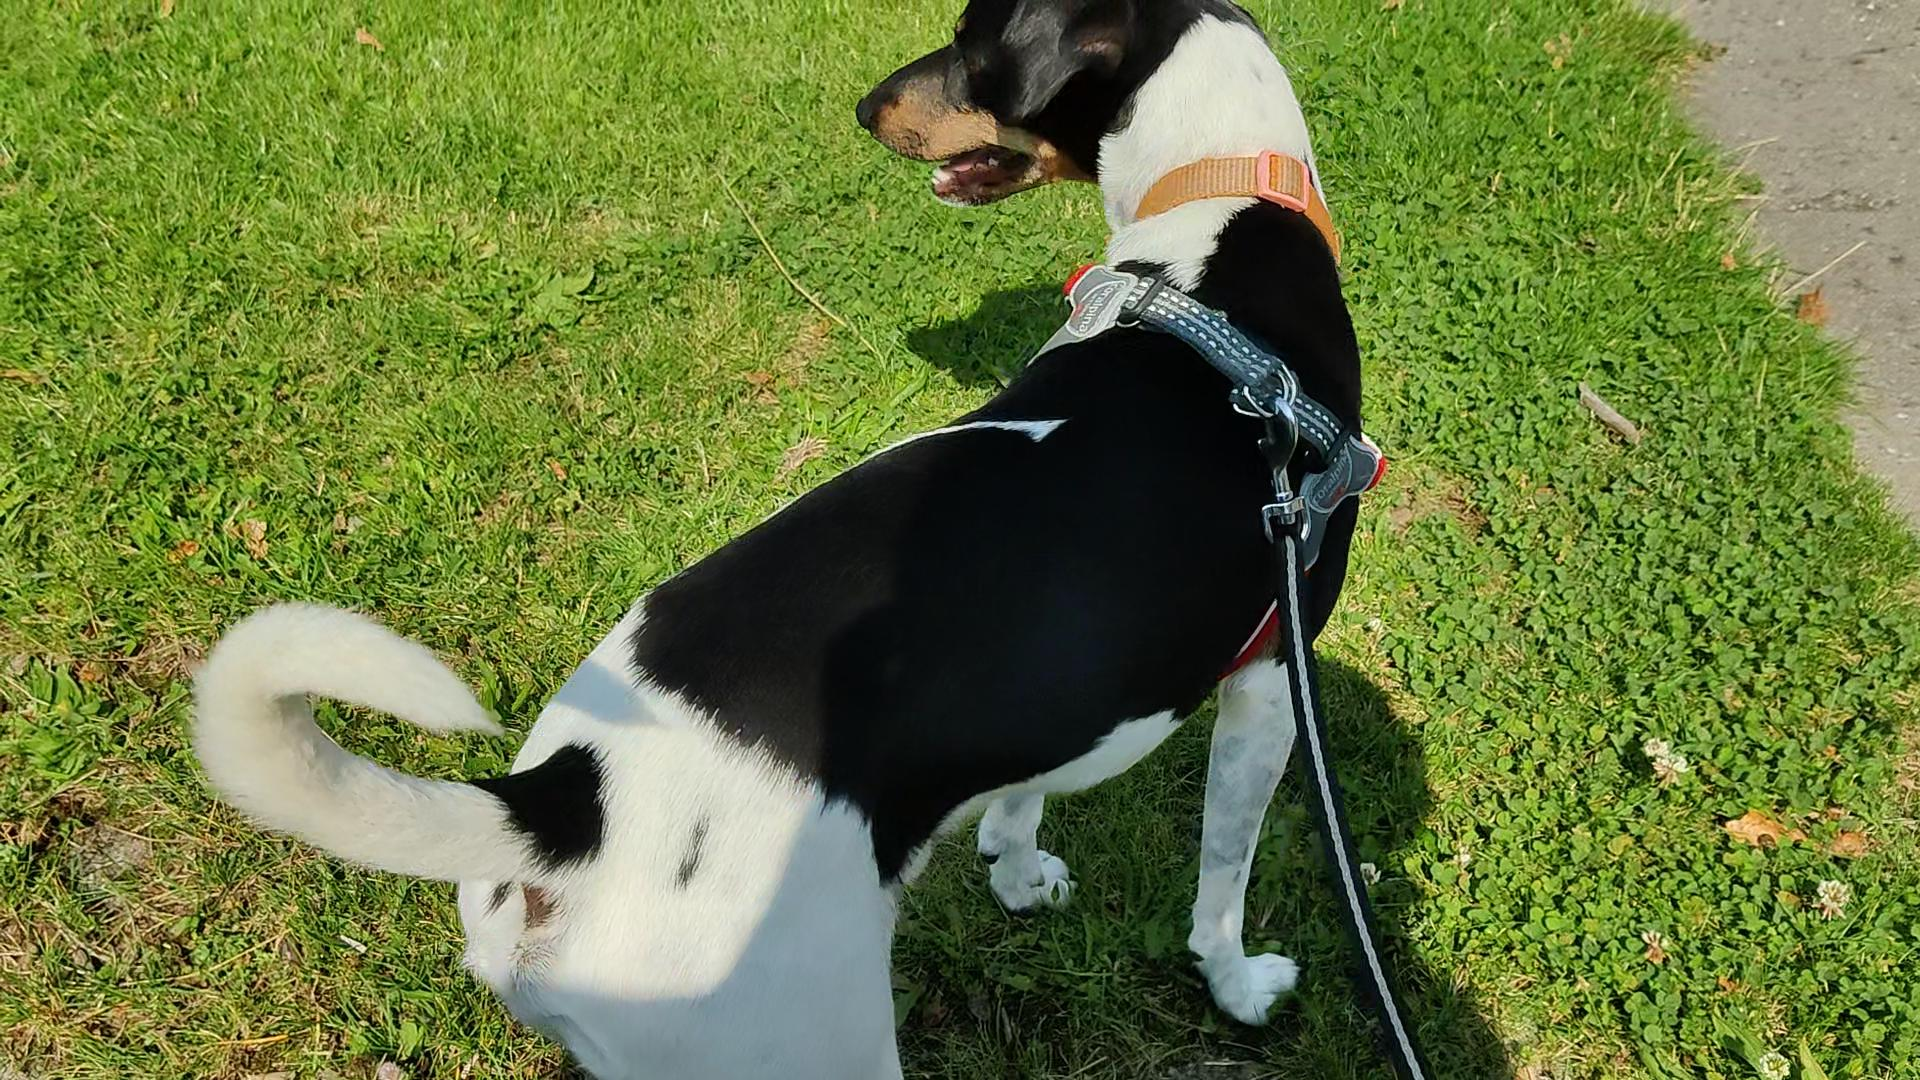Dog: (183, 0, 1367, 1079)
